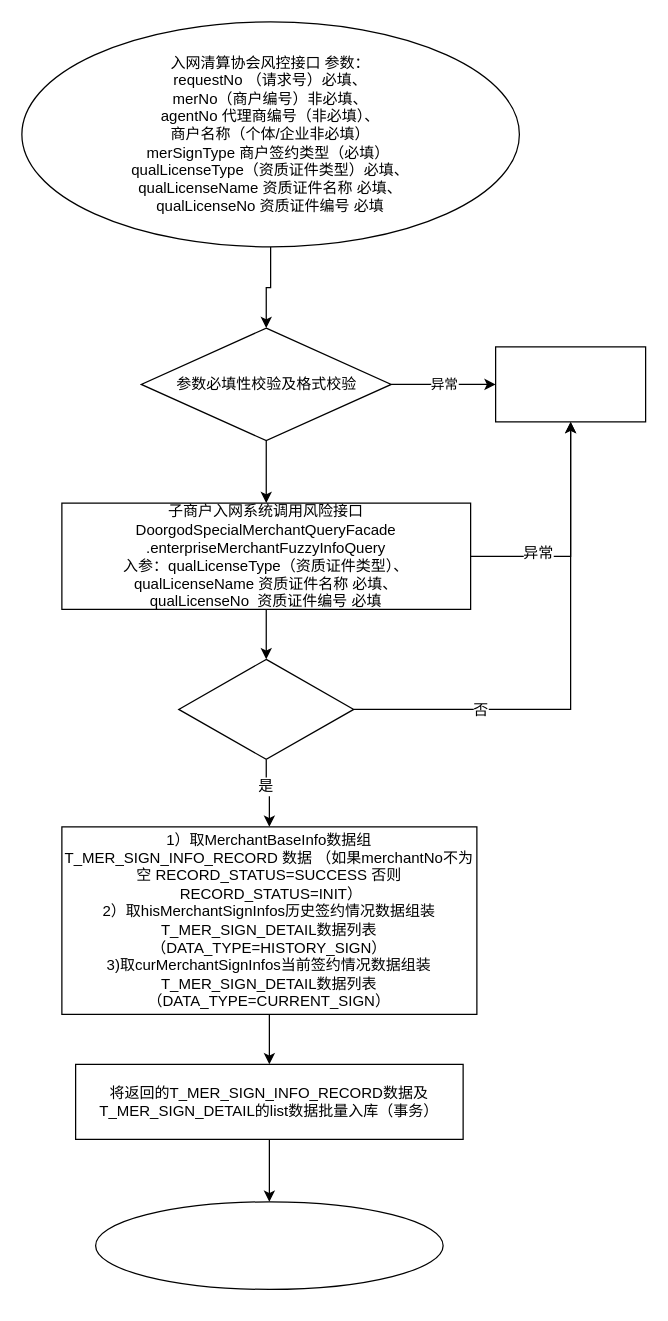
This 668x1321 diagram has some shape labels left out. Here are the shapes that lost their labels. From the top down, the box of each, then its label:
(494, 346, 646, 422): 返回具体的异常码
(178, 658, 354, 759): 响应参数是否为 resultStatus= 01、 resultCode= S00000
(94, 1201, 443, 1289): 返回响应结果： requestNo、externalId、 returnCode、 returnMsg 、 canNetIn
